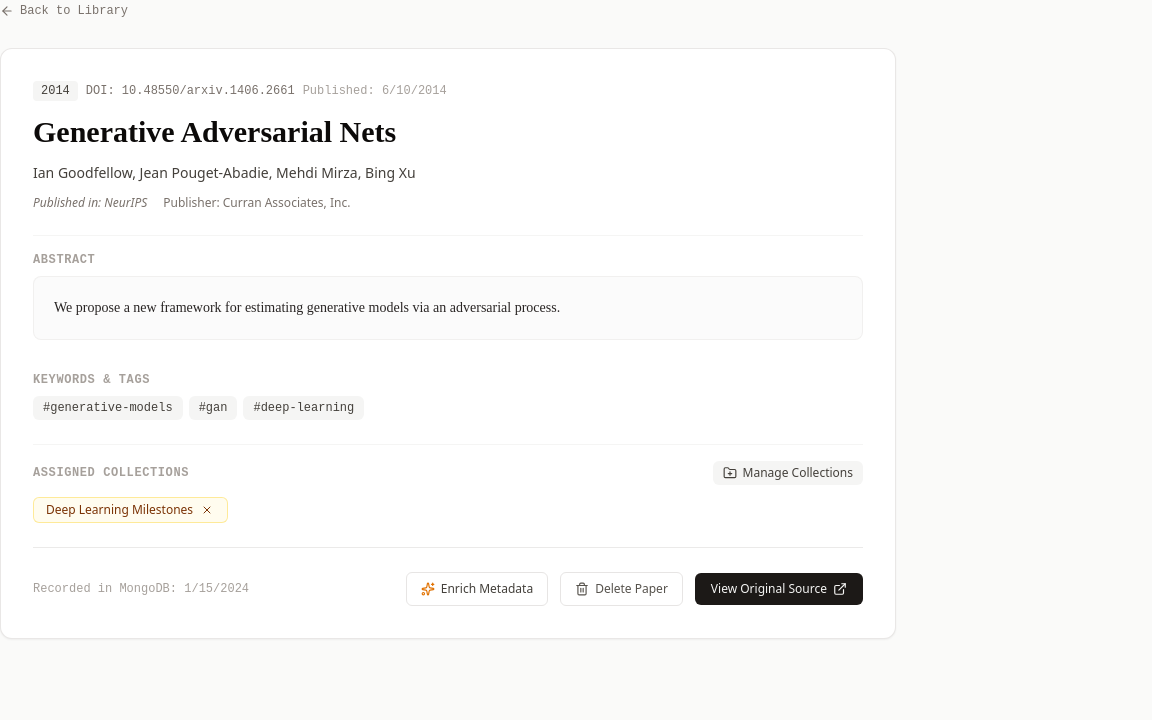
PaperDetailPage (Publication Dossier) › opens collection management modal and toggles collection membership
Expected: the text "Deep Learning Milestones" is shown, [46,502,193,518]
Open manage collections modal
What coordinates should you click on to do the following:
click the button "Manage Collections"
I would click on:
 (788, 473)
Its box is [712,461,863,485].
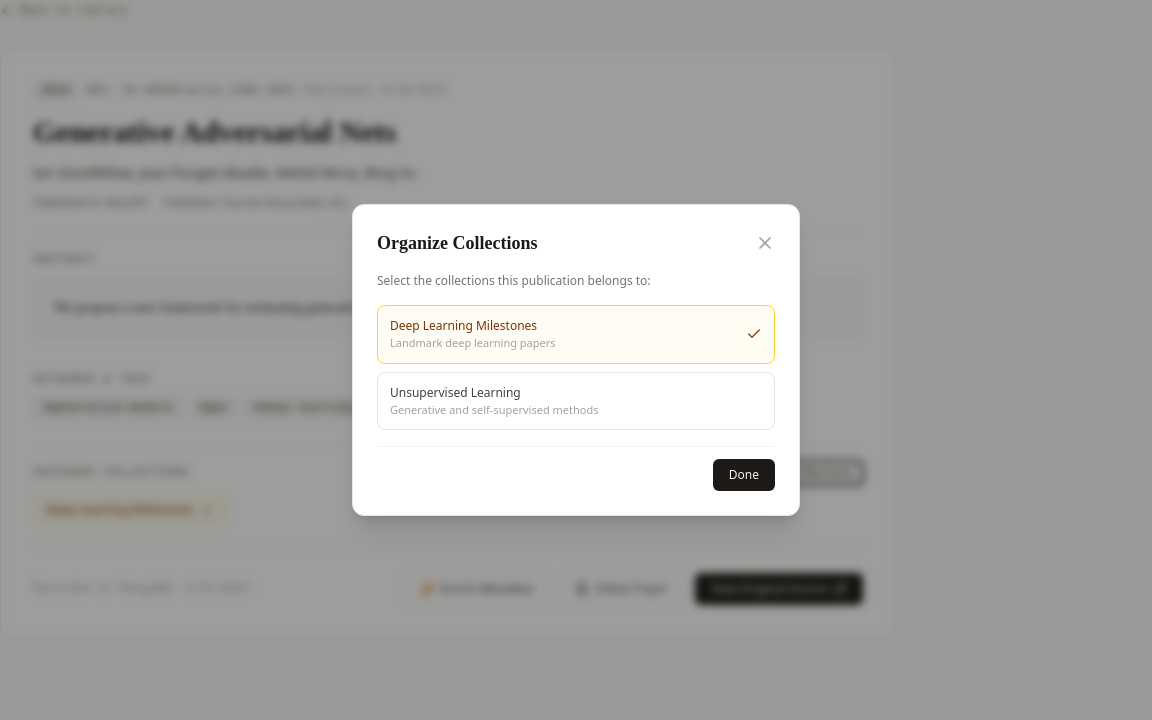
Expected: the heading "Organize Collections" is shown, [377,229,538,257]
Expected: the text "Unsupervised Learning" is shown, [390,384,521,400]
Click on unassigned collection "Unsupervised Learning" to assign
What coordinates should you click on to do the following:
click the button "Unsupervised Learning Generative and self-supervised methods"
I would click on:
 (576, 401)
Its box is [377,372,775,430].
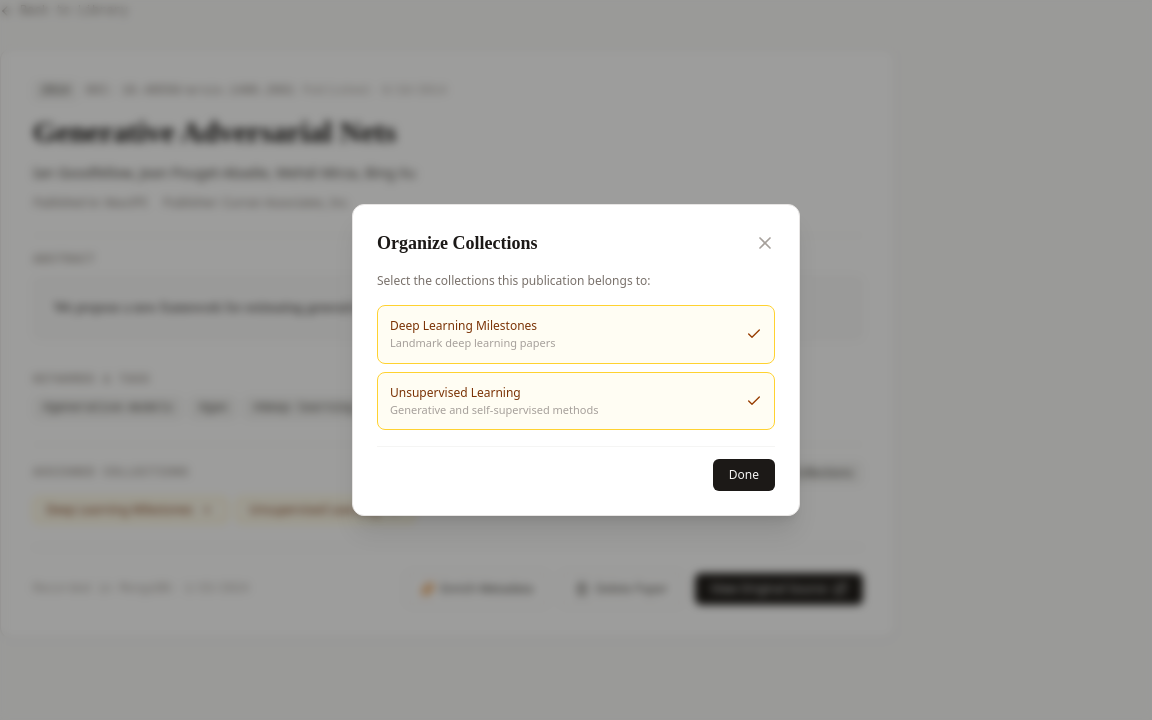
Close modal
What coordinates should you click on to do the following:
click the button "Done"
I would click on:
 (744, 475)
Its box is [713,459,775,491].
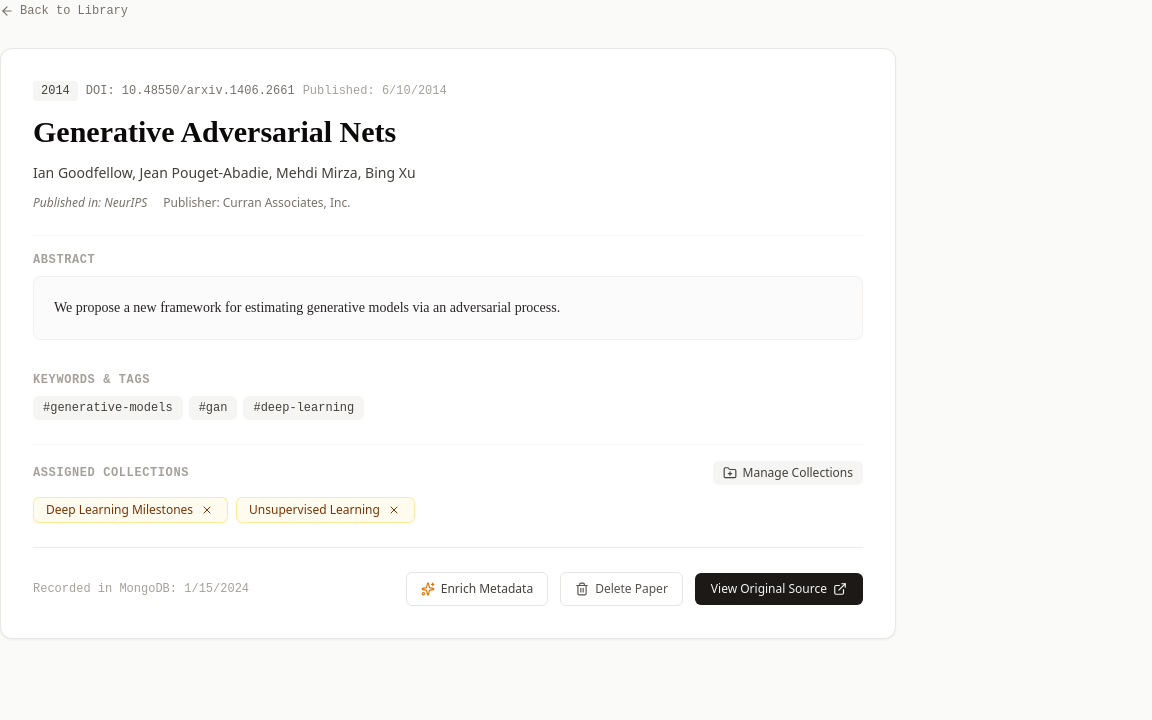
Expected: the heading "Organize Collections" is gone
